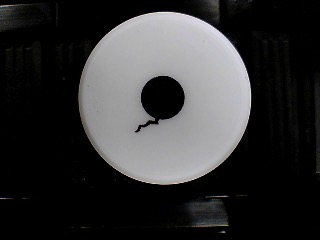CRACK: (77, 11, 252, 185)
